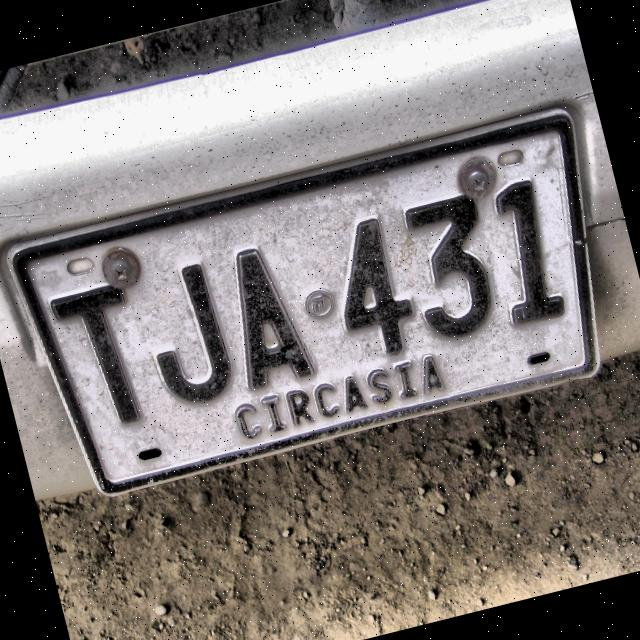plate: (8, 105, 602, 496)
